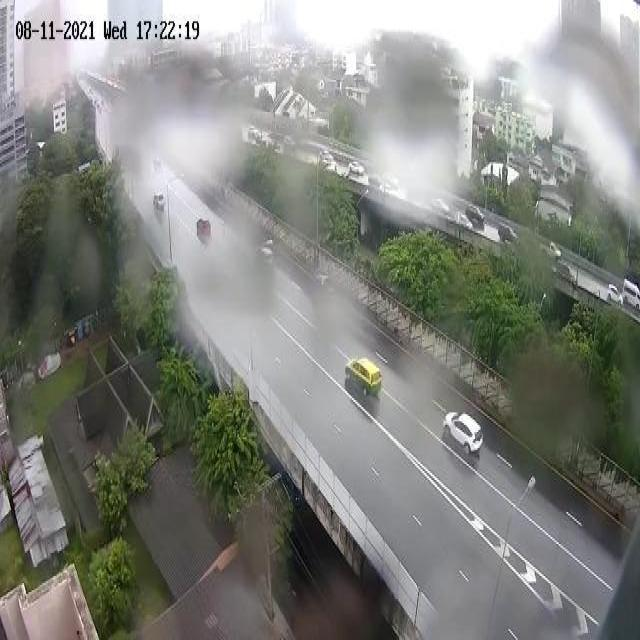Car: (444, 410, 486, 455), (345, 356, 382, 398), (606, 281, 624, 306), (465, 205, 485, 224), (348, 159, 365, 176), (196, 218, 211, 236)
Truck: (540, 240, 563, 262)
Van: (622, 276, 640, 310)
